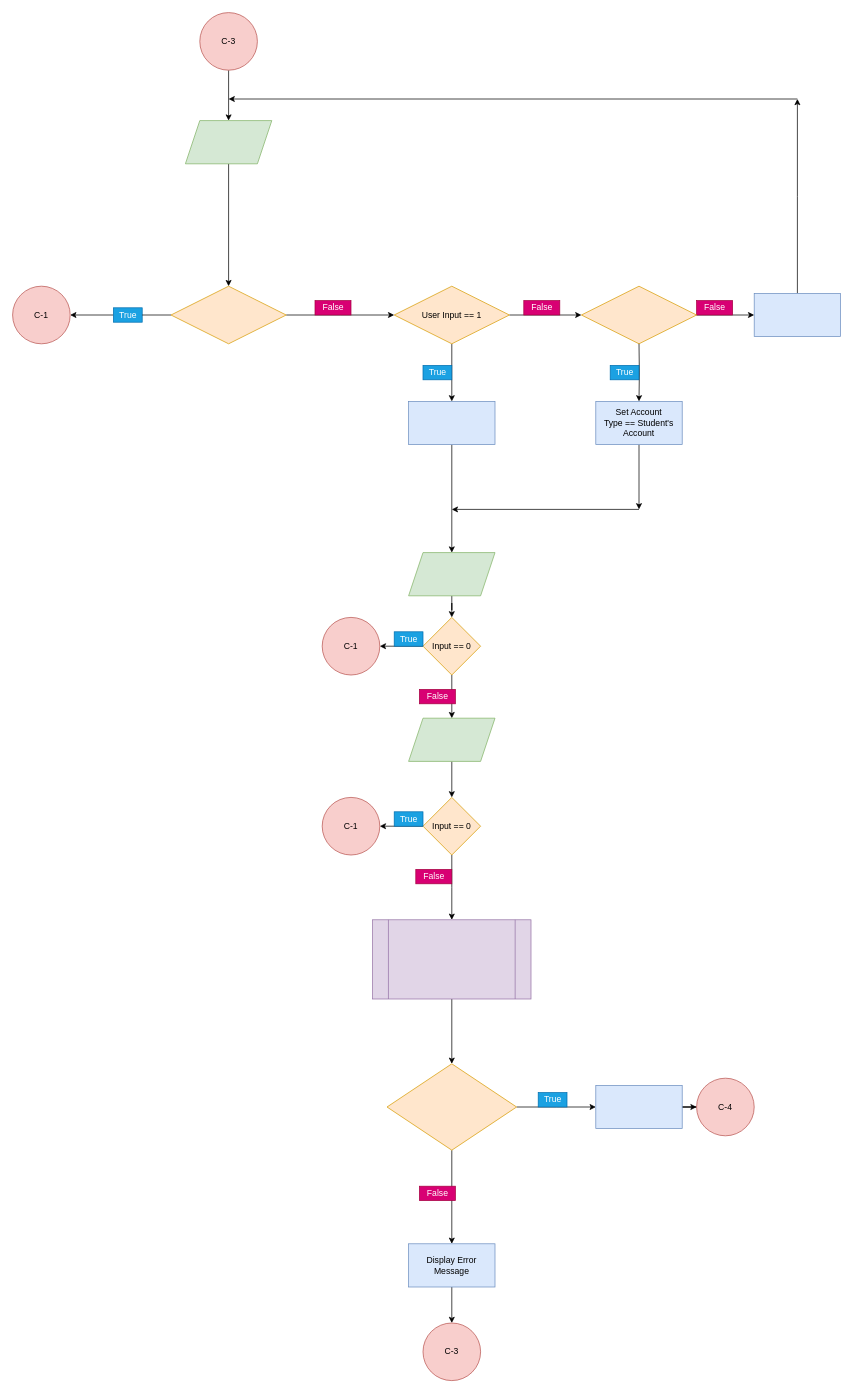
This 853x1393 diagram has some shape labels left out. Each missing label, with the box of its shape:
Display Success Message: (595, 1085, 682, 1129)
Set Account Type == Teacher's Account: (408, 401, 495, 445)
Show Error Message: (753, 293, 841, 337)
Subroutine authorizationn Success: (386, 1063, 517, 1150)
Subroutine For Checking if User exists and Password and User Name are correct: (372, 919, 531, 999)
Take User Input: (185, 120, 272, 164)
Take User Name Input: (408, 552, 495, 596)
Take User Password Input: (408, 717, 495, 761)
User Input == 0: (170, 285, 286, 344)
User Input == 2: (581, 285, 697, 344)
